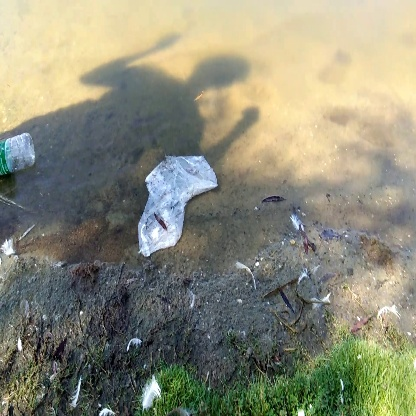plastic-bag: (138, 150, 223, 260)
